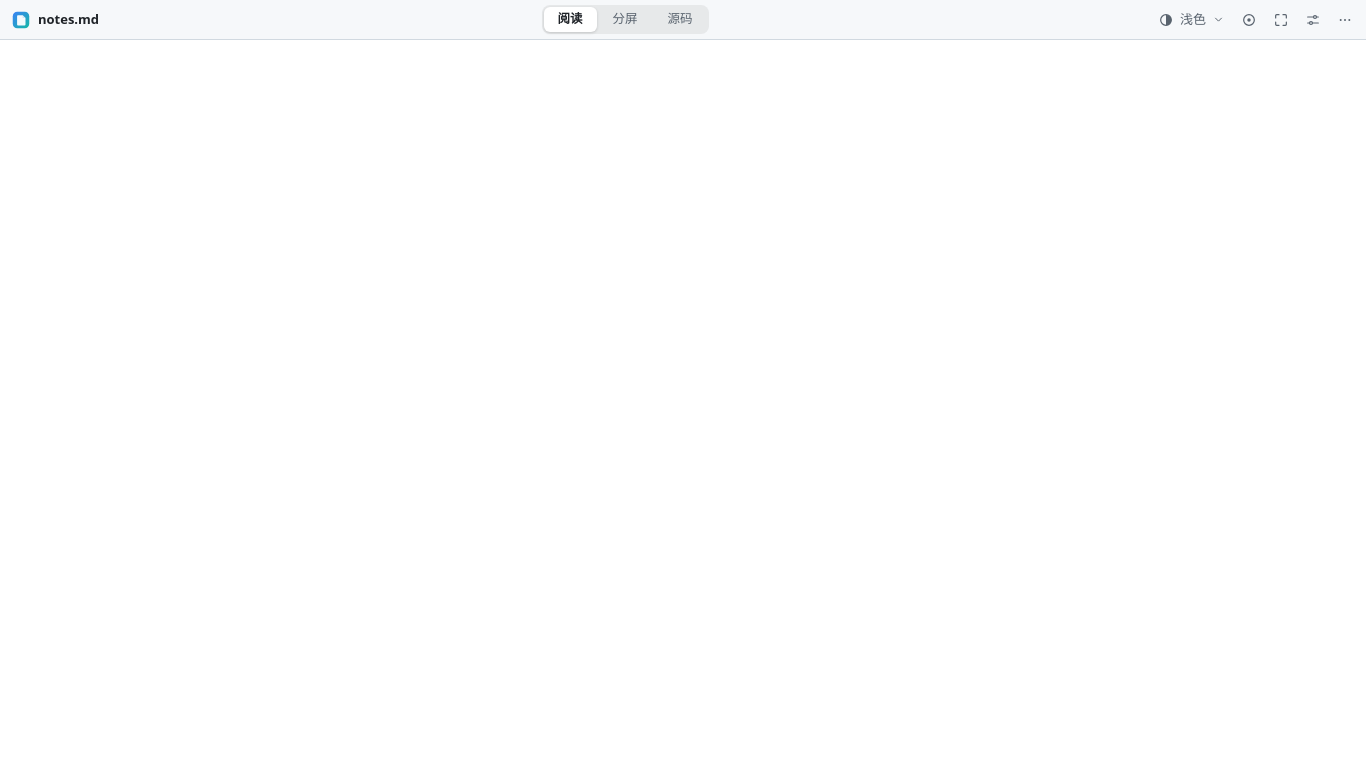
Test: TitleBar · 最近打开文件 › shows the parent-folder hint and the full-path tooltip
Click the button titled "更多操作".
click(1345, 20)  # box [1330, 6, 1360, 34]
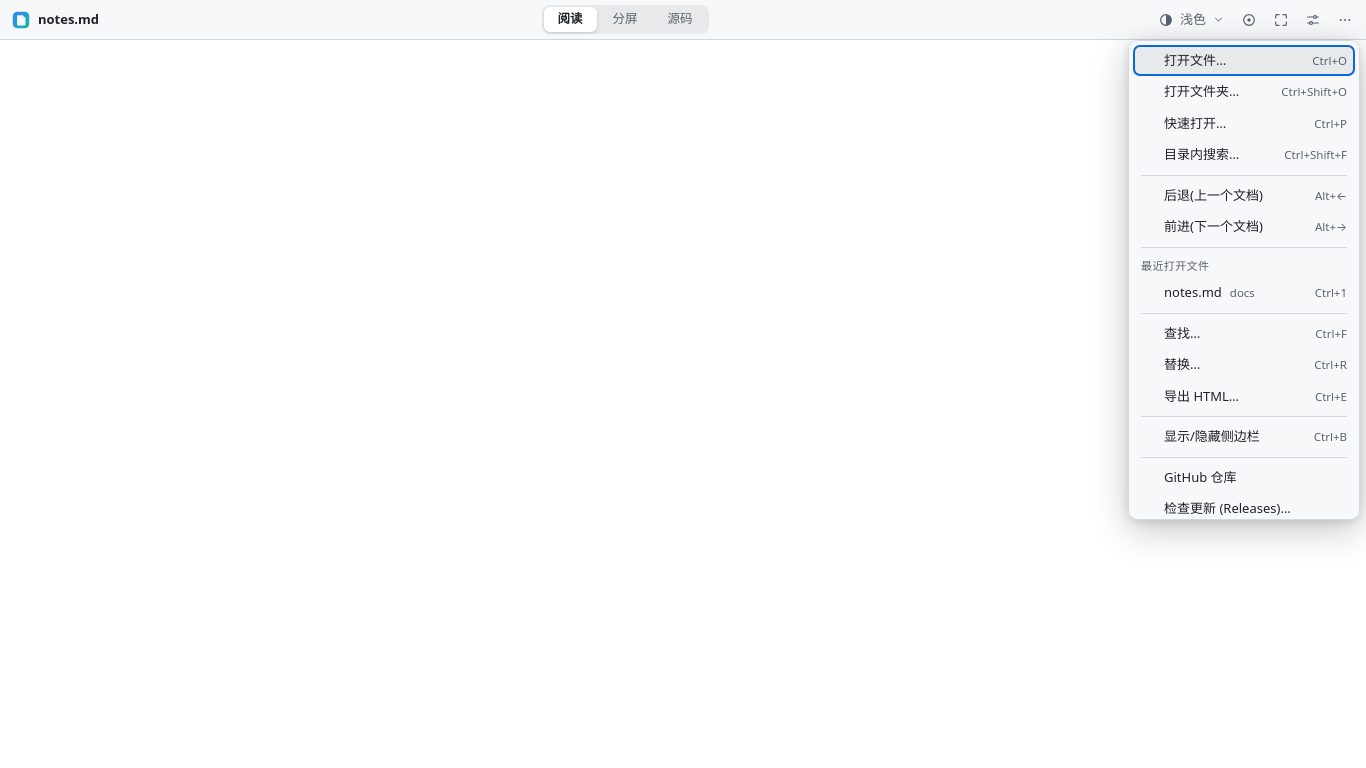
Expected: the text "docs" is shown, [1230, 285, 1255, 300]
Expected: the menu item titled "/docs/notes.md" is shown, [1133, 277, 1355, 308]
